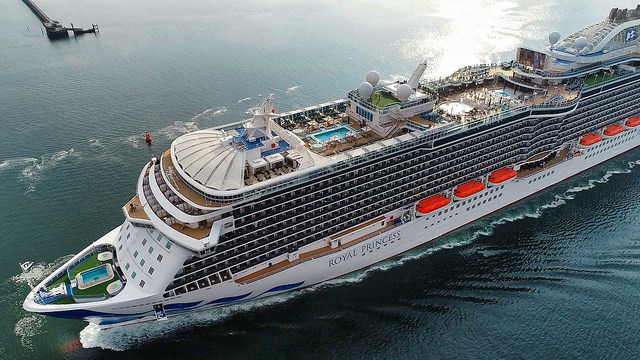cruise_ship: (18, 1, 640, 339)
